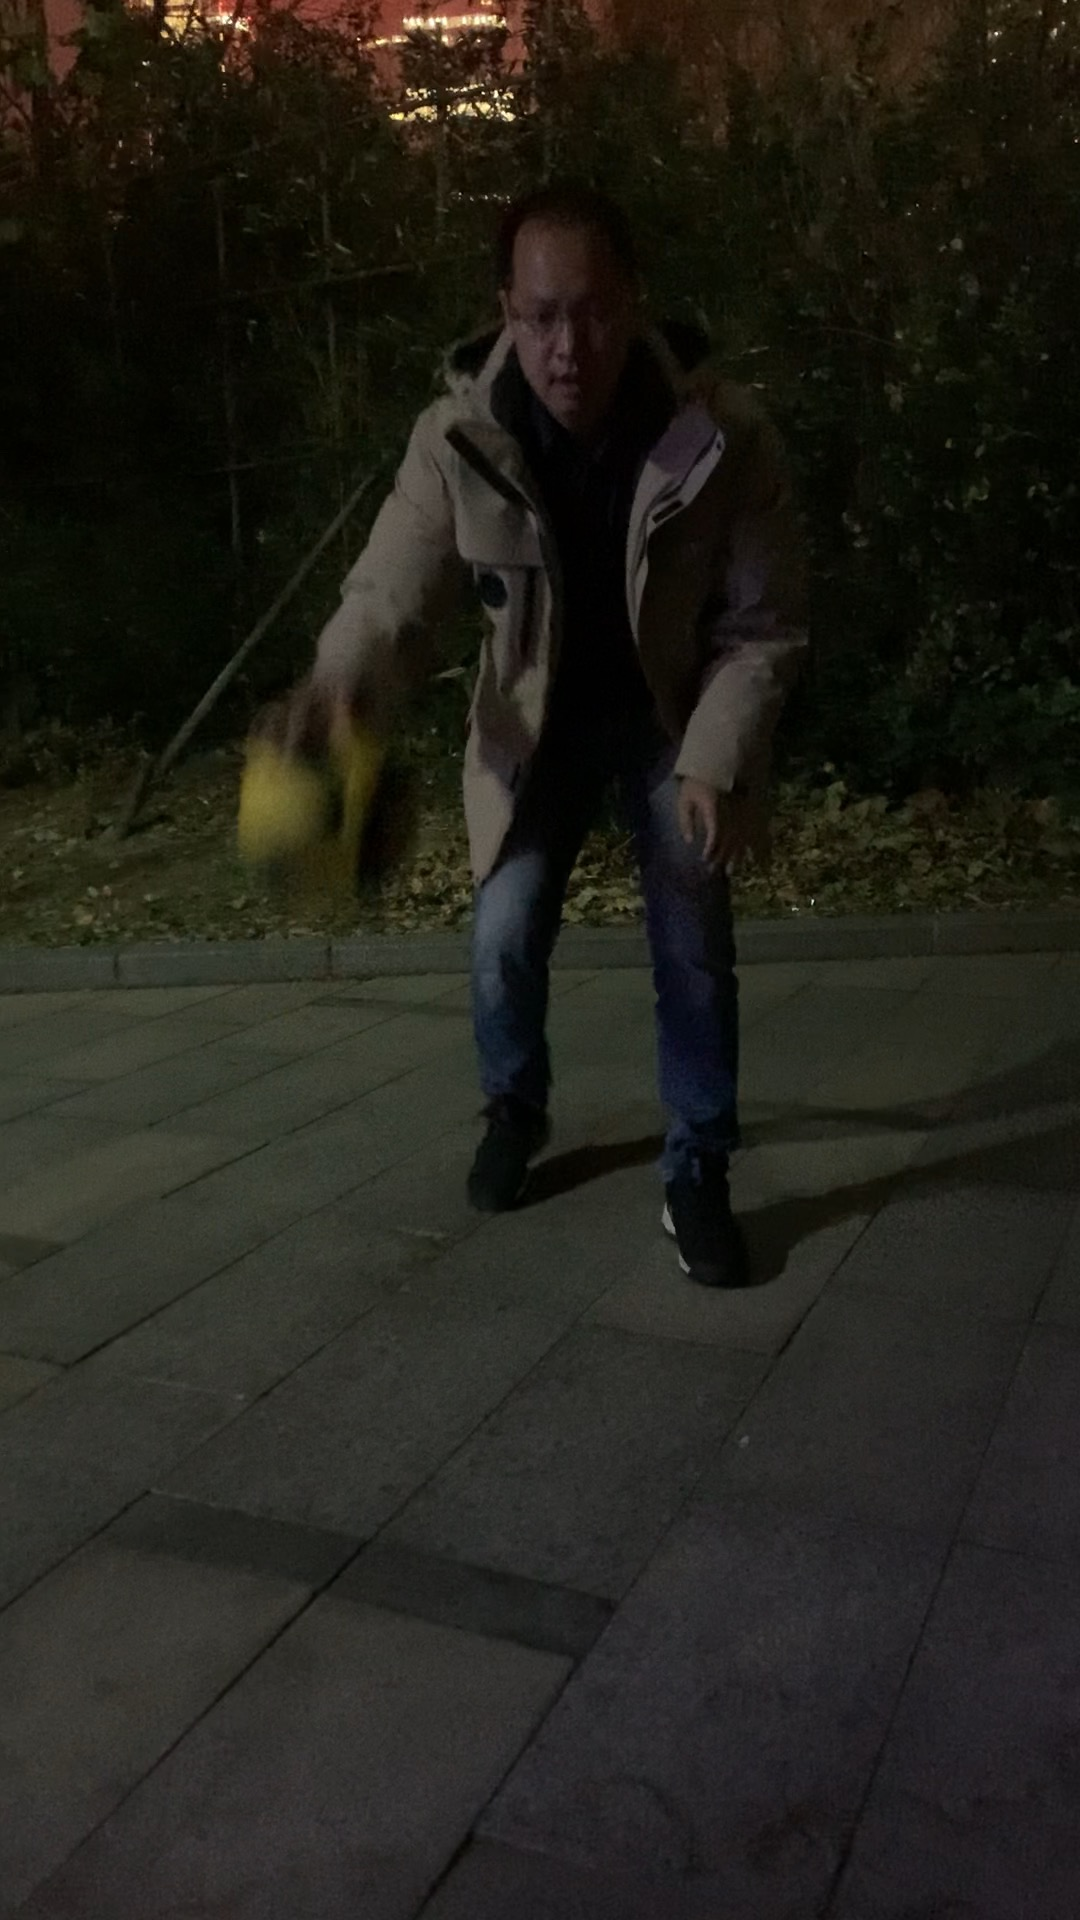ball: (225, 727, 425, 909)
